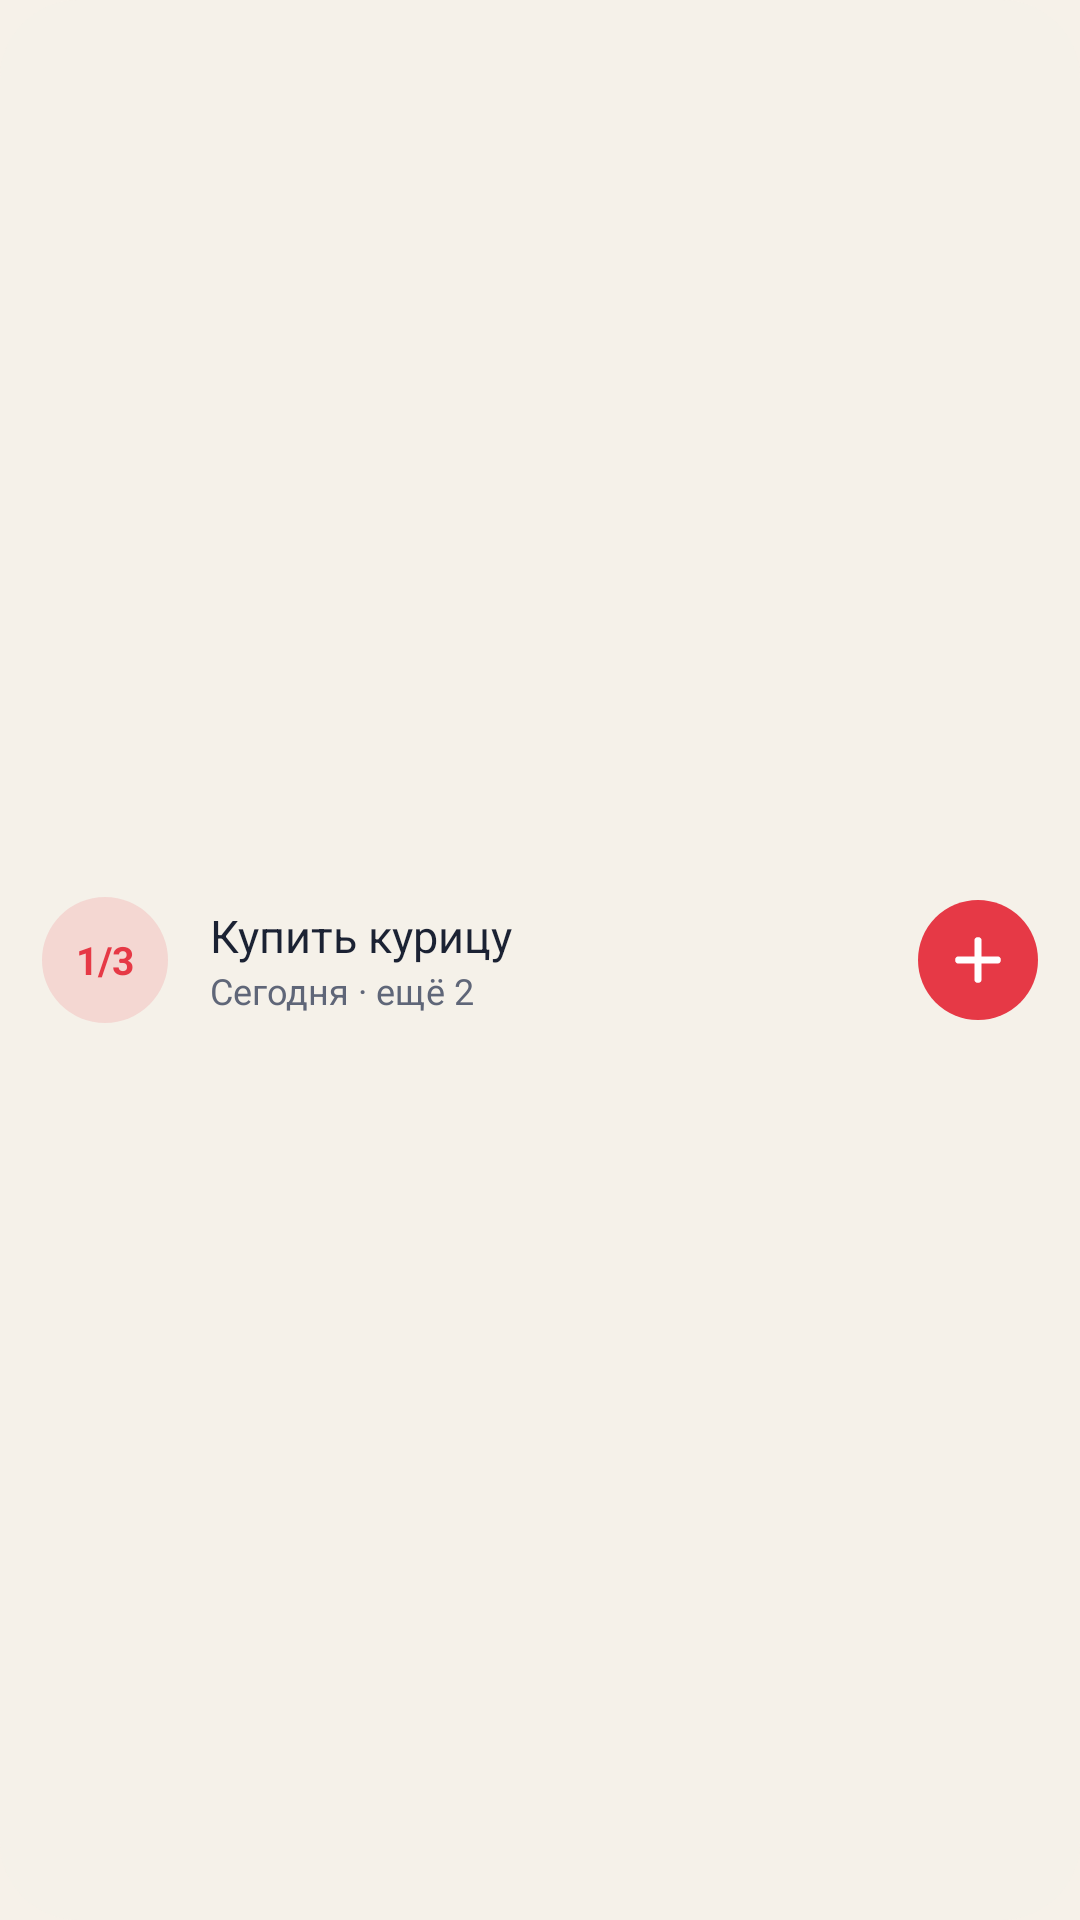

Screen size 1080x1920. Icon name, then its box in pixels as (x1, y1, x2, y2):
widget plus: (918, 900, 1038, 1020)
